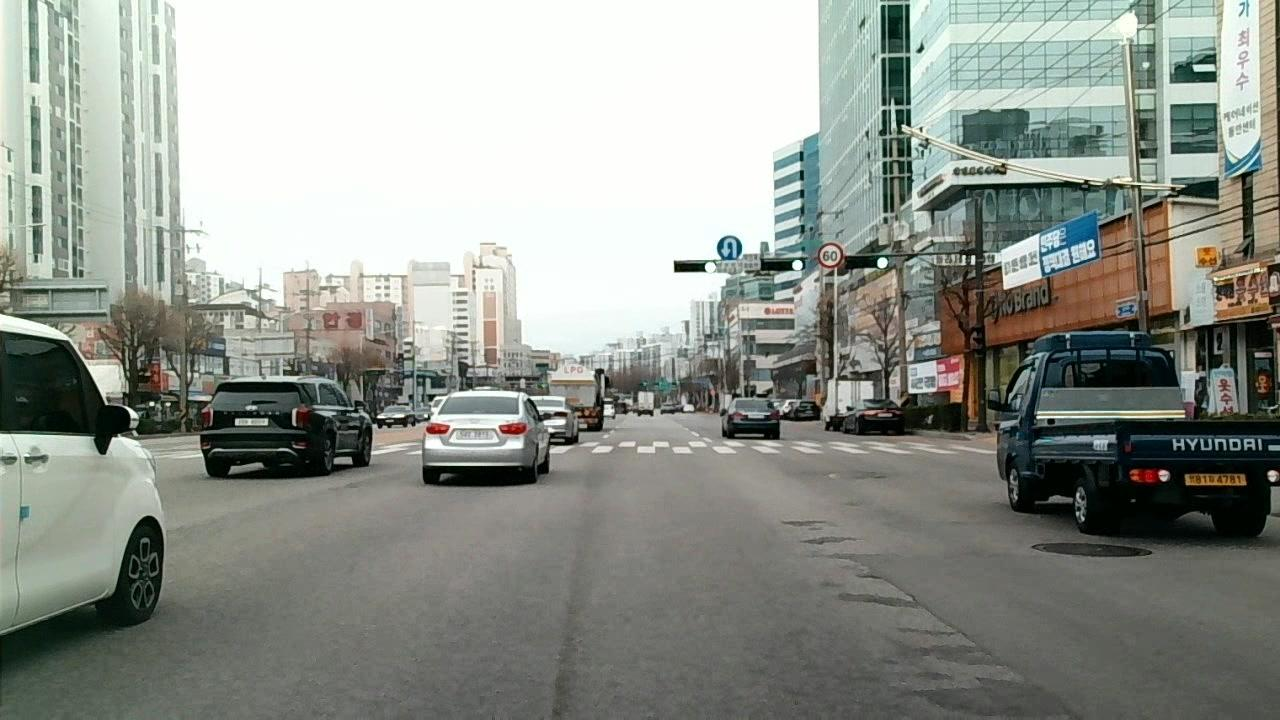erosion: (801, 510, 1007, 712)
